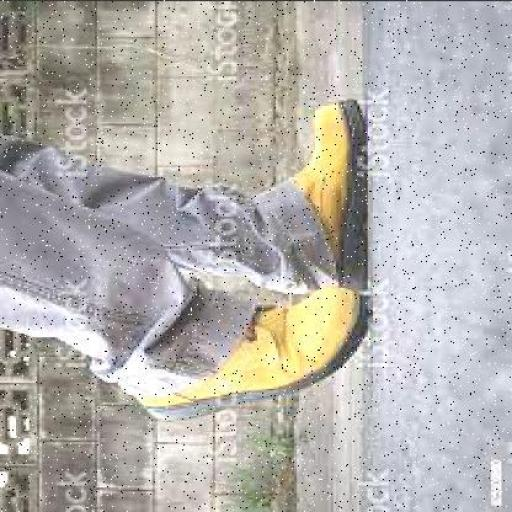safety_shoe: (129, 280, 372, 414), (270, 98, 372, 286)
